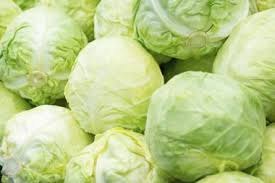cabbage: (139, 81, 275, 181), (68, 42, 165, 138), (1, 11, 85, 111), (2, 100, 85, 183), (220, 18, 275, 114), (88, 132, 155, 183)
